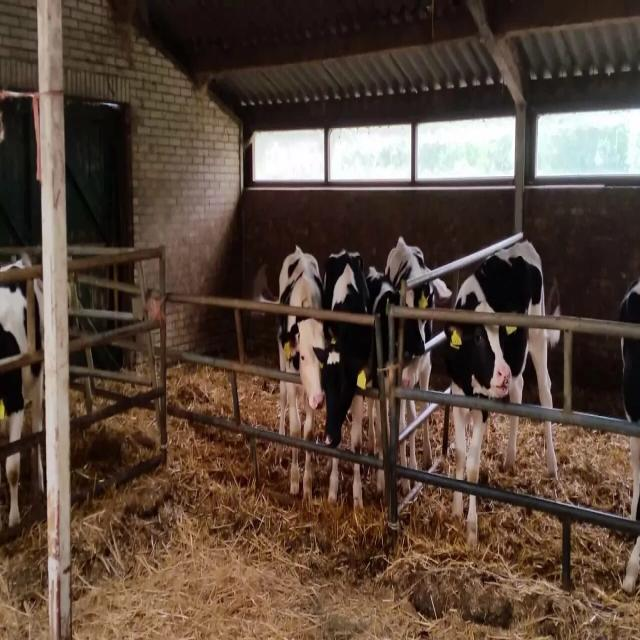cow: (260, 231, 562, 547), (442, 234, 562, 548), (384, 235, 452, 496), (259, 244, 326, 504), (313, 248, 377, 512), (0, 251, 45, 528), (618, 277, 640, 595)
